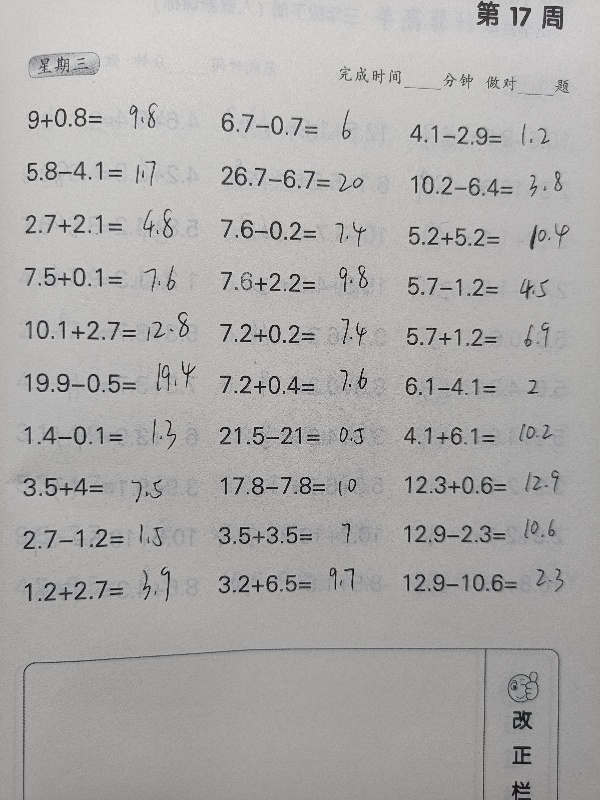equation: (17, 307, 197, 351), (16, 572, 196, 607), (14, 520, 194, 555), (17, 418, 197, 453), (17, 366, 197, 401), (212, 264, 392, 299), (16, 259, 196, 294), (212, 212, 392, 247), (16, 206, 196, 241), (213, 161, 393, 196), (18, 153, 198, 188), (212, 107, 392, 142), (19, 100, 199, 135), (209, 566, 389, 600), (395, 566, 575, 600), (211, 518, 391, 552), (395, 517, 575, 551), (15, 470, 195, 504), (213, 469, 393, 503), (397, 468, 577, 502), (396, 419, 576, 453), (211, 419, 391, 453), (397, 369, 577, 403), (212, 368, 392, 402), (211, 316, 391, 350), (399, 269, 579, 303), (399, 219, 579, 253), (402, 169, 582, 203), (401, 118, 581, 152), (397, 320, 577, 353)
